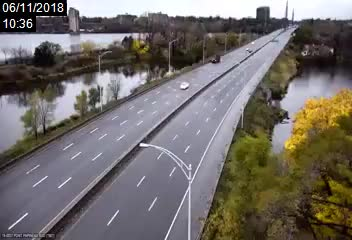personal_car: (178, 81, 190, 92)
truck: (210, 53, 221, 66)
